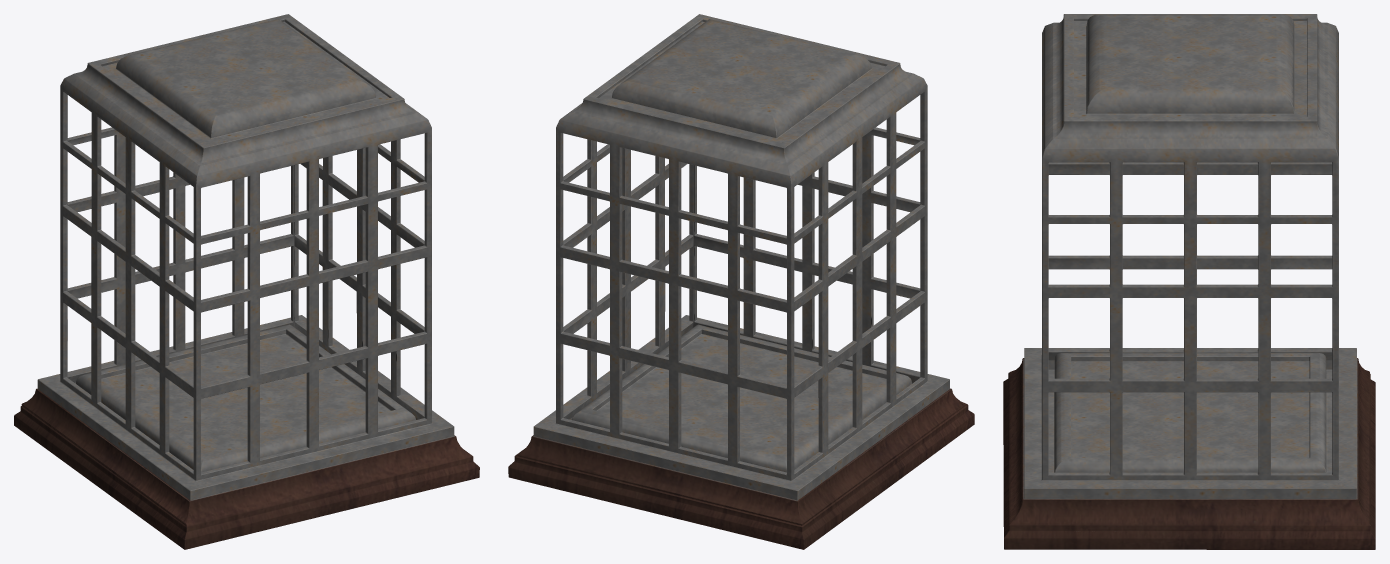
Rendered from small_dungeon_cage.glb.
3 views of the same model, side by side, from view 1: azimuth 30°, elevation 25°; view 2: azimuth 150°, elevation 25°; view 3: azimuth 270°, elevation 25° (orthographic). The views are drawn at different scales.
Bounding box in the file's own units: 1.52 × 1.89 × 1.52.
1 material, 1 textured.
